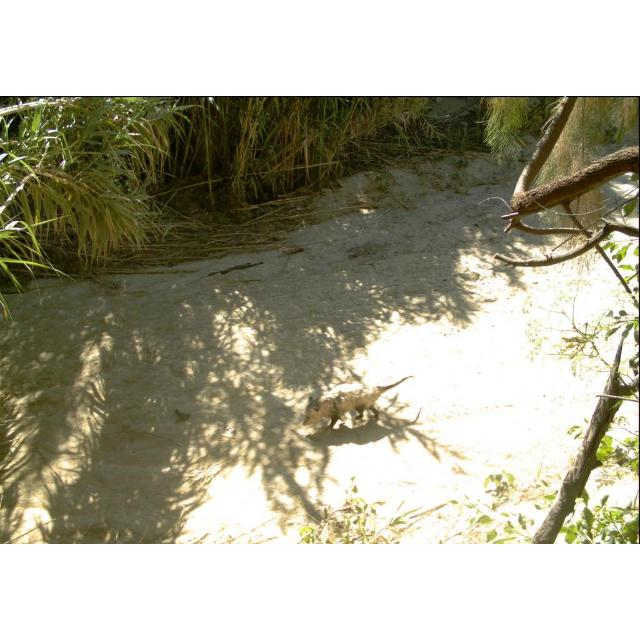animals: (304, 374, 416, 430)
